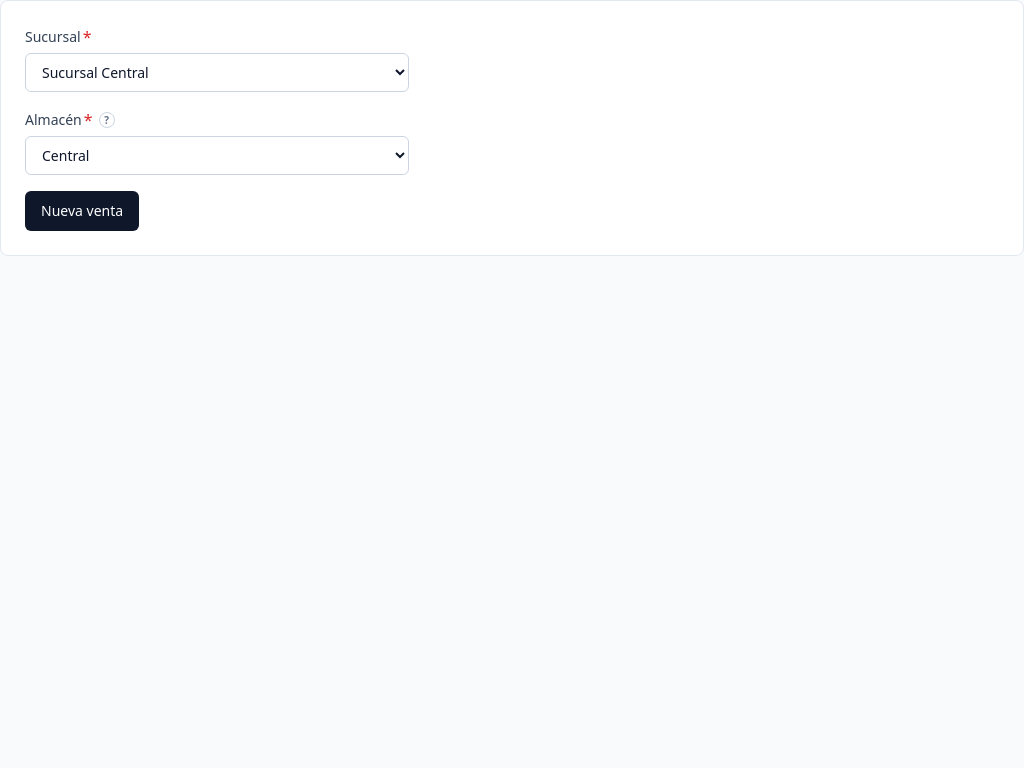
NewSale › Paso B — "Nueva venta" › POSTs /cart { locationId } — no tenantId — and opens the cart window
Click the button "Nueva venta": click(82, 211) [25,191,139,231]
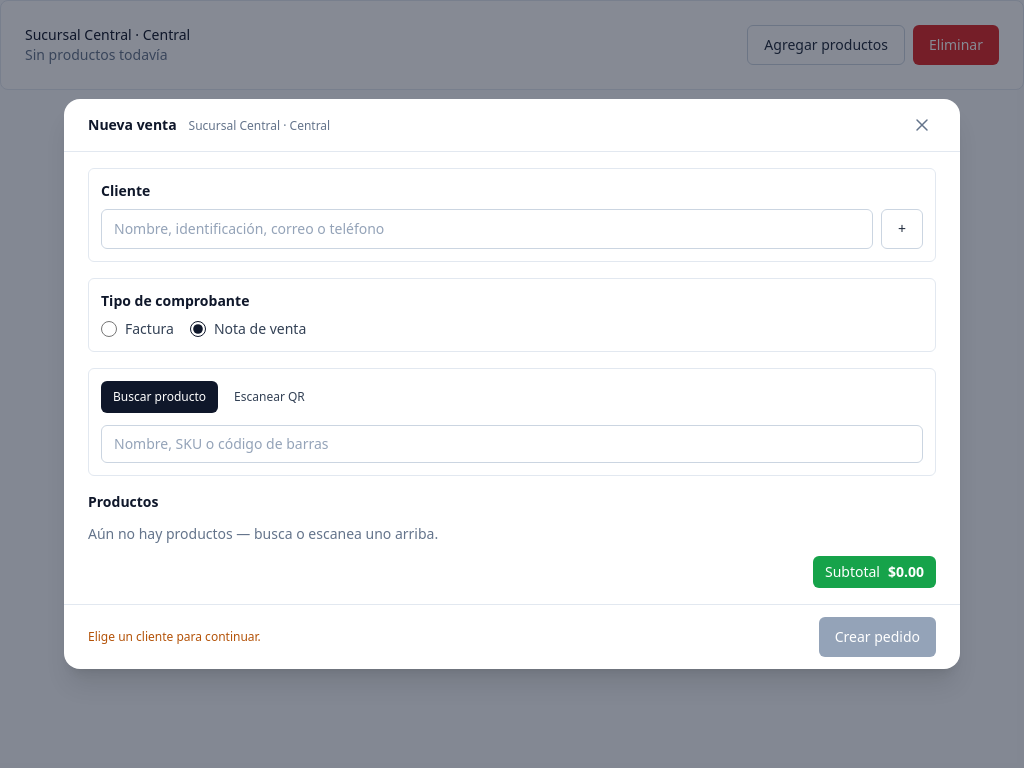
Now the dialog "Nueva venta" is shown
